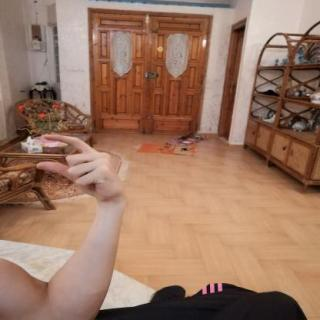DELL: (24, 127, 132, 207)
